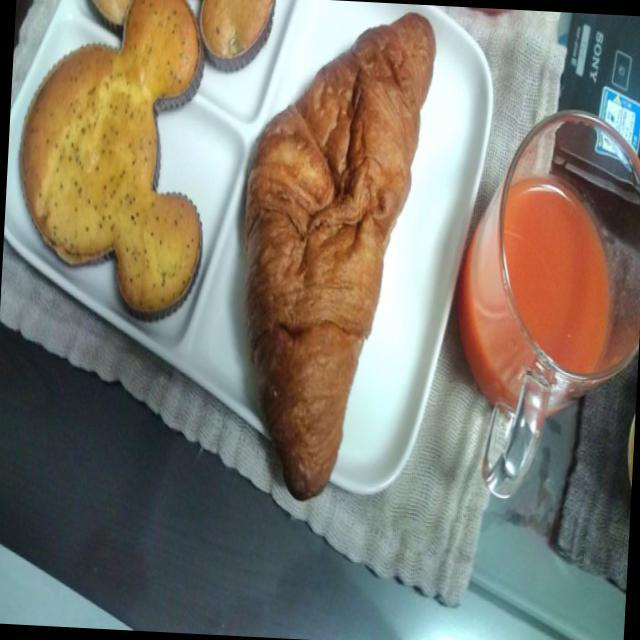Croissant: (217, 0, 454, 514)
